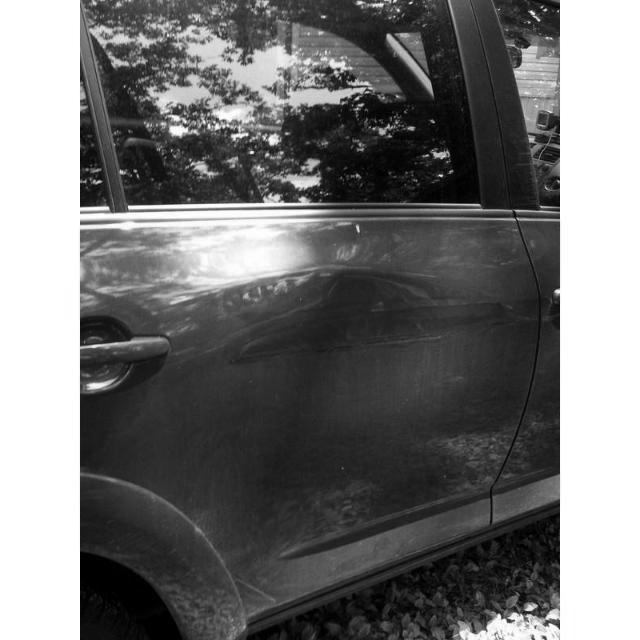doorouter-dent: (122, 235, 463, 505)
